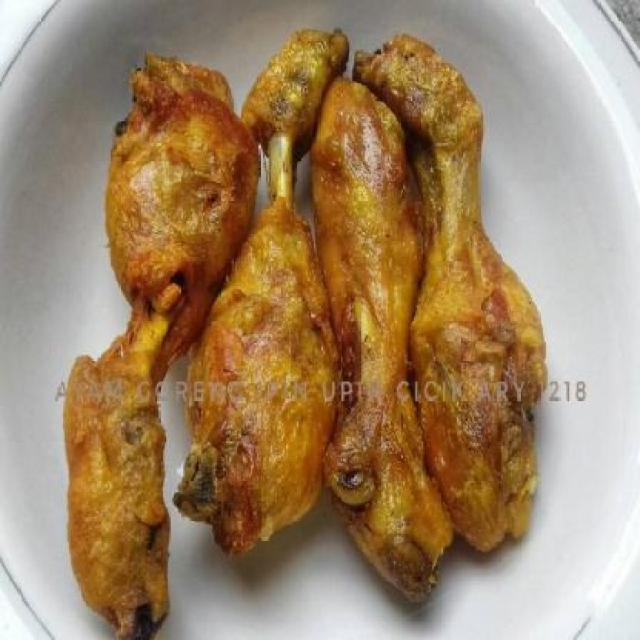Wet Waste: (65, 60, 260, 637), (356, 26, 544, 559), (178, 23, 348, 554), (308, 80, 454, 609)
